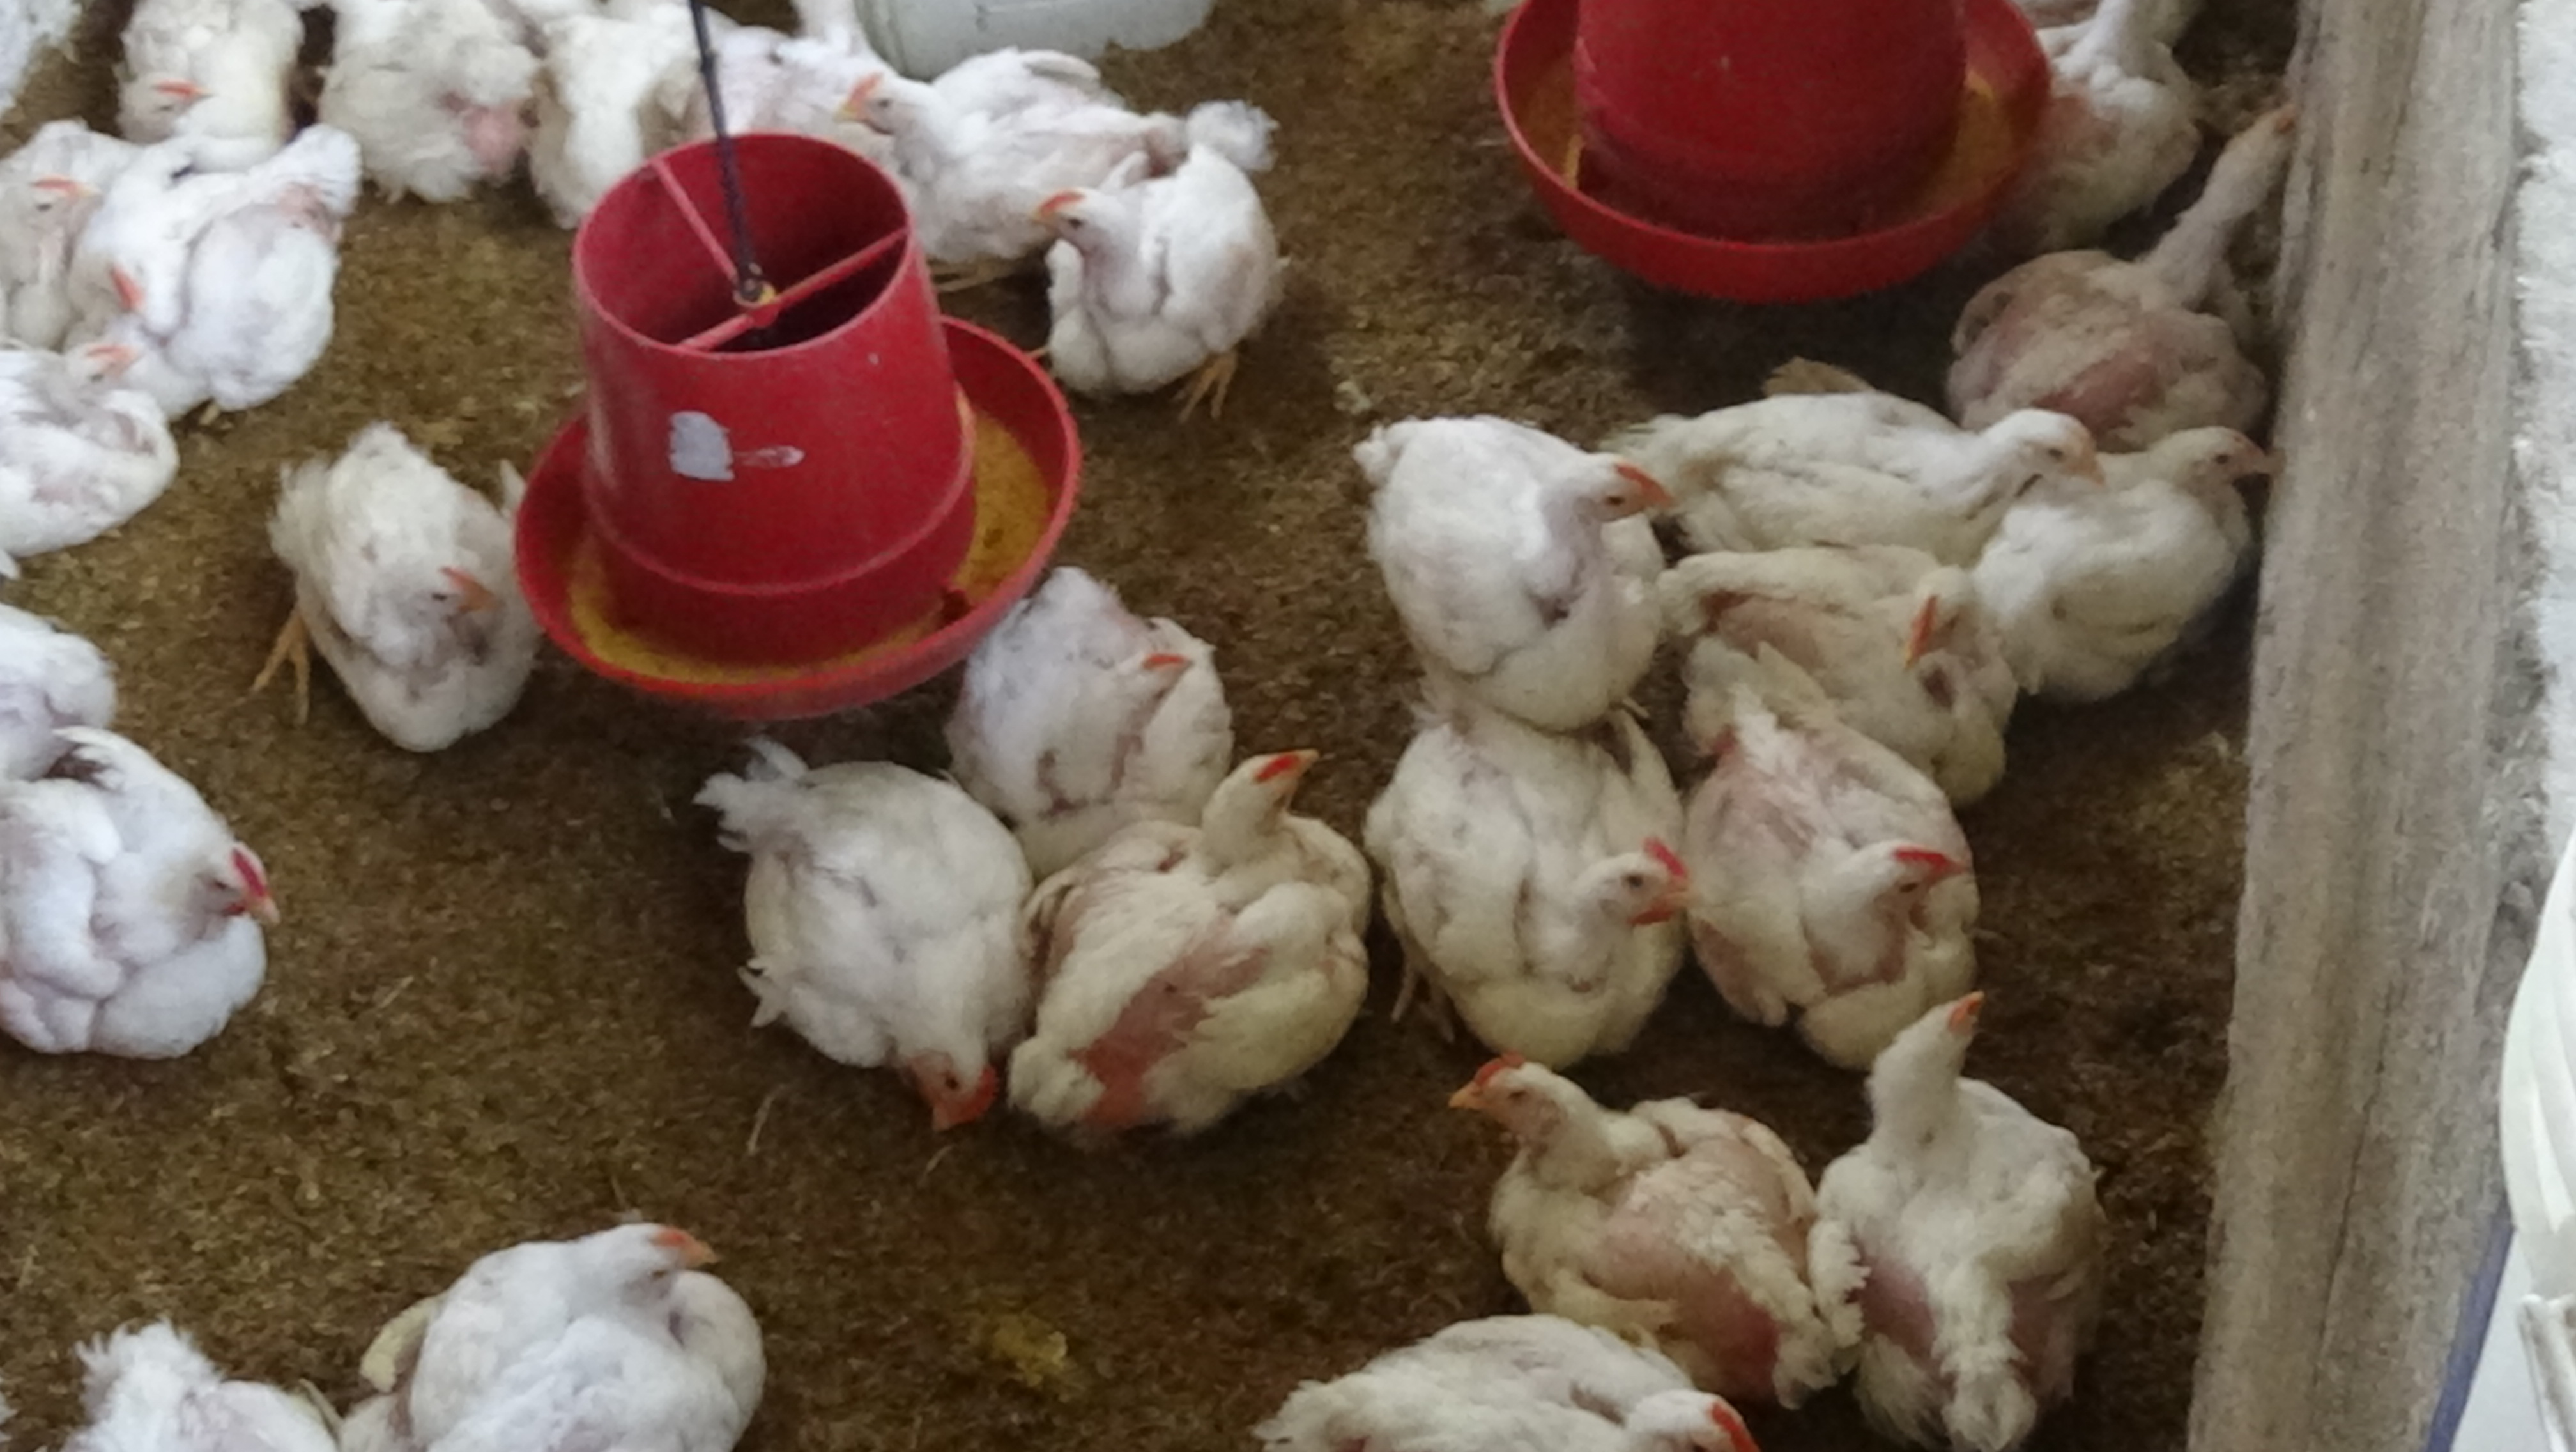Pollos: (1019, 753, 1368, 1133), (1842, 985, 2123, 1441), (1405, 1057, 1817, 1365), (722, 699, 996, 1128), (1368, 365, 1675, 733), (1368, 707, 1691, 1045), (398, 1193, 798, 1452), (0, 733, 315, 1061), (262, 437, 589, 753), (2059, 57, 2355, 377), (1691, 722, 1990, 1022), (954, 533, 1219, 829), (1205, 1323, 1766, 1452), (1037, 122, 1277, 395), (1870, 358, 2120, 567), (83, 1270, 322, 1452), (835, 30, 1014, 262), (1888, 533, 2010, 696), (23, 335, 168, 441), (2173, 418, 2288, 544), (96, 225, 216, 335), (11, 145, 92, 269), (92, 50, 212, 133)
